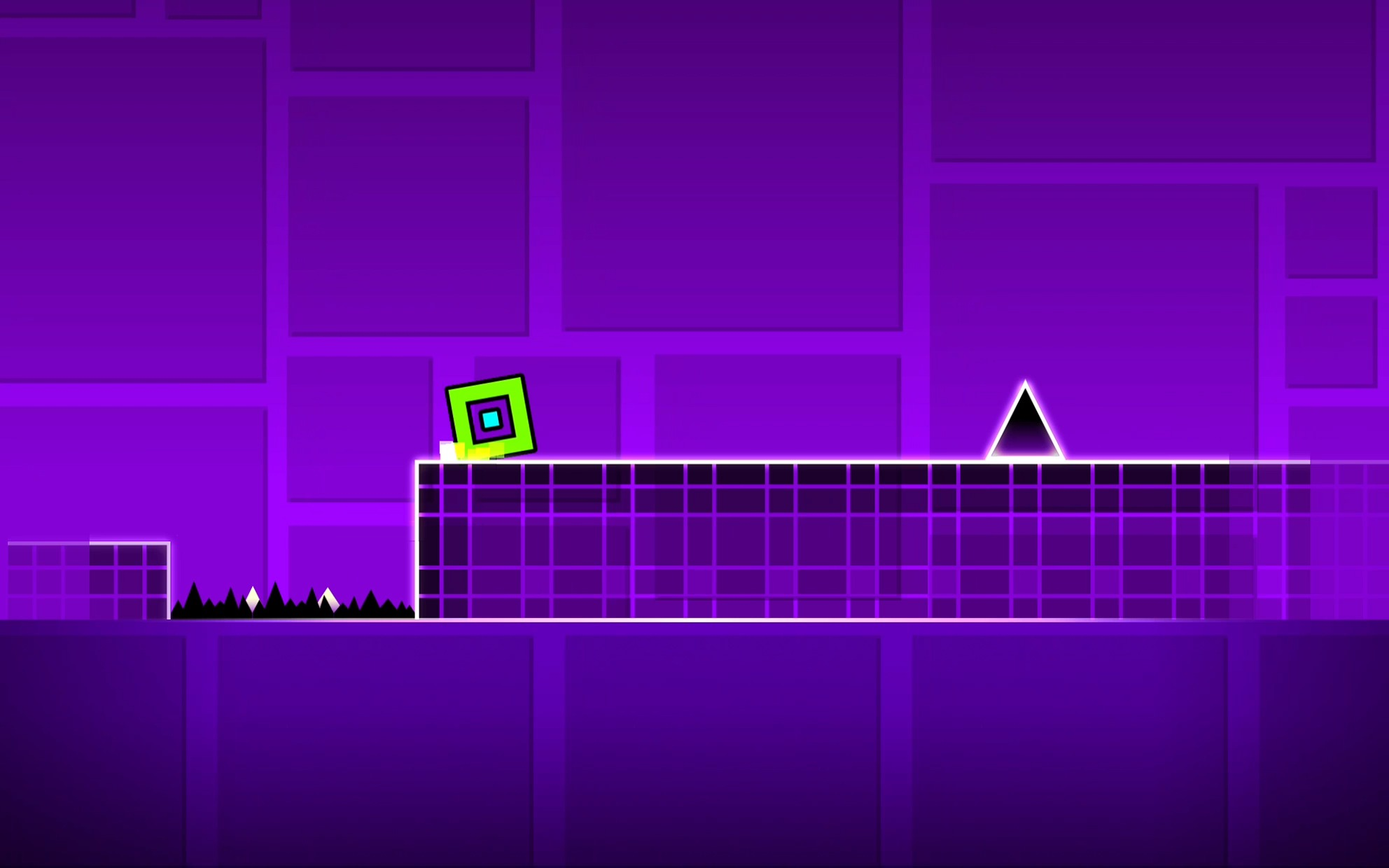Block2: (414, 456, 1384, 614), (1, 542, 172, 619)
Player: (445, 374, 536, 458)
Spike: (986, 380, 1061, 457)
Spike3: (173, 582, 416, 622)
